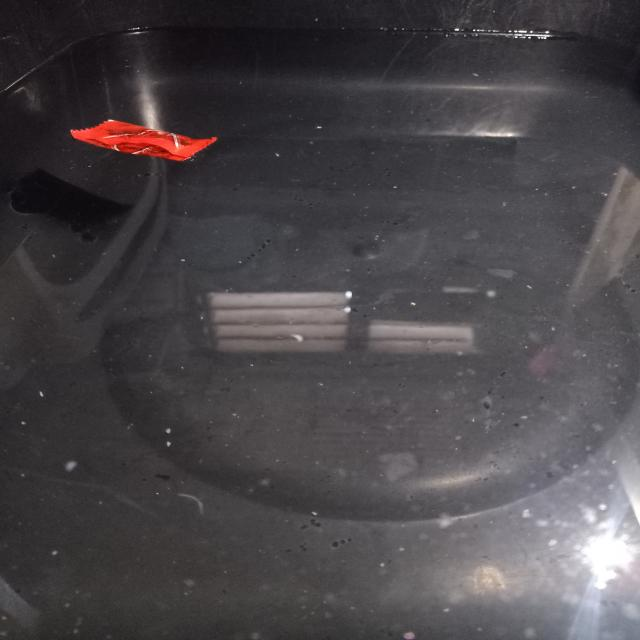Plastic Wrapper: (70, 120, 217, 161)
